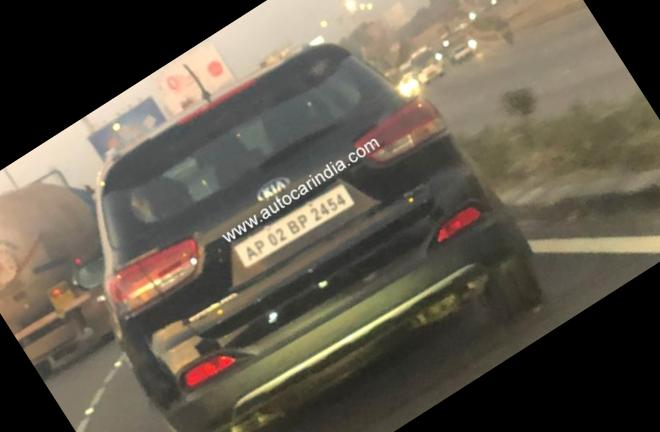plate: (223, 156, 380, 281)
